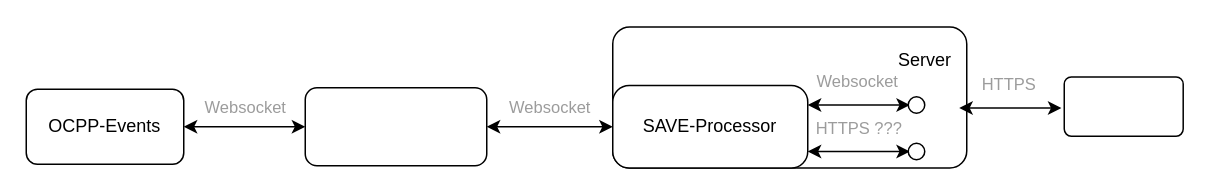
Some shapes in this 1211 by 194 pixel diagram are drawn without their labels. The centre of each missing label's shape, as x and y in pixels:
"Events-Processor" goes at (395,126).
"Frontend" goes at (1123,105).
